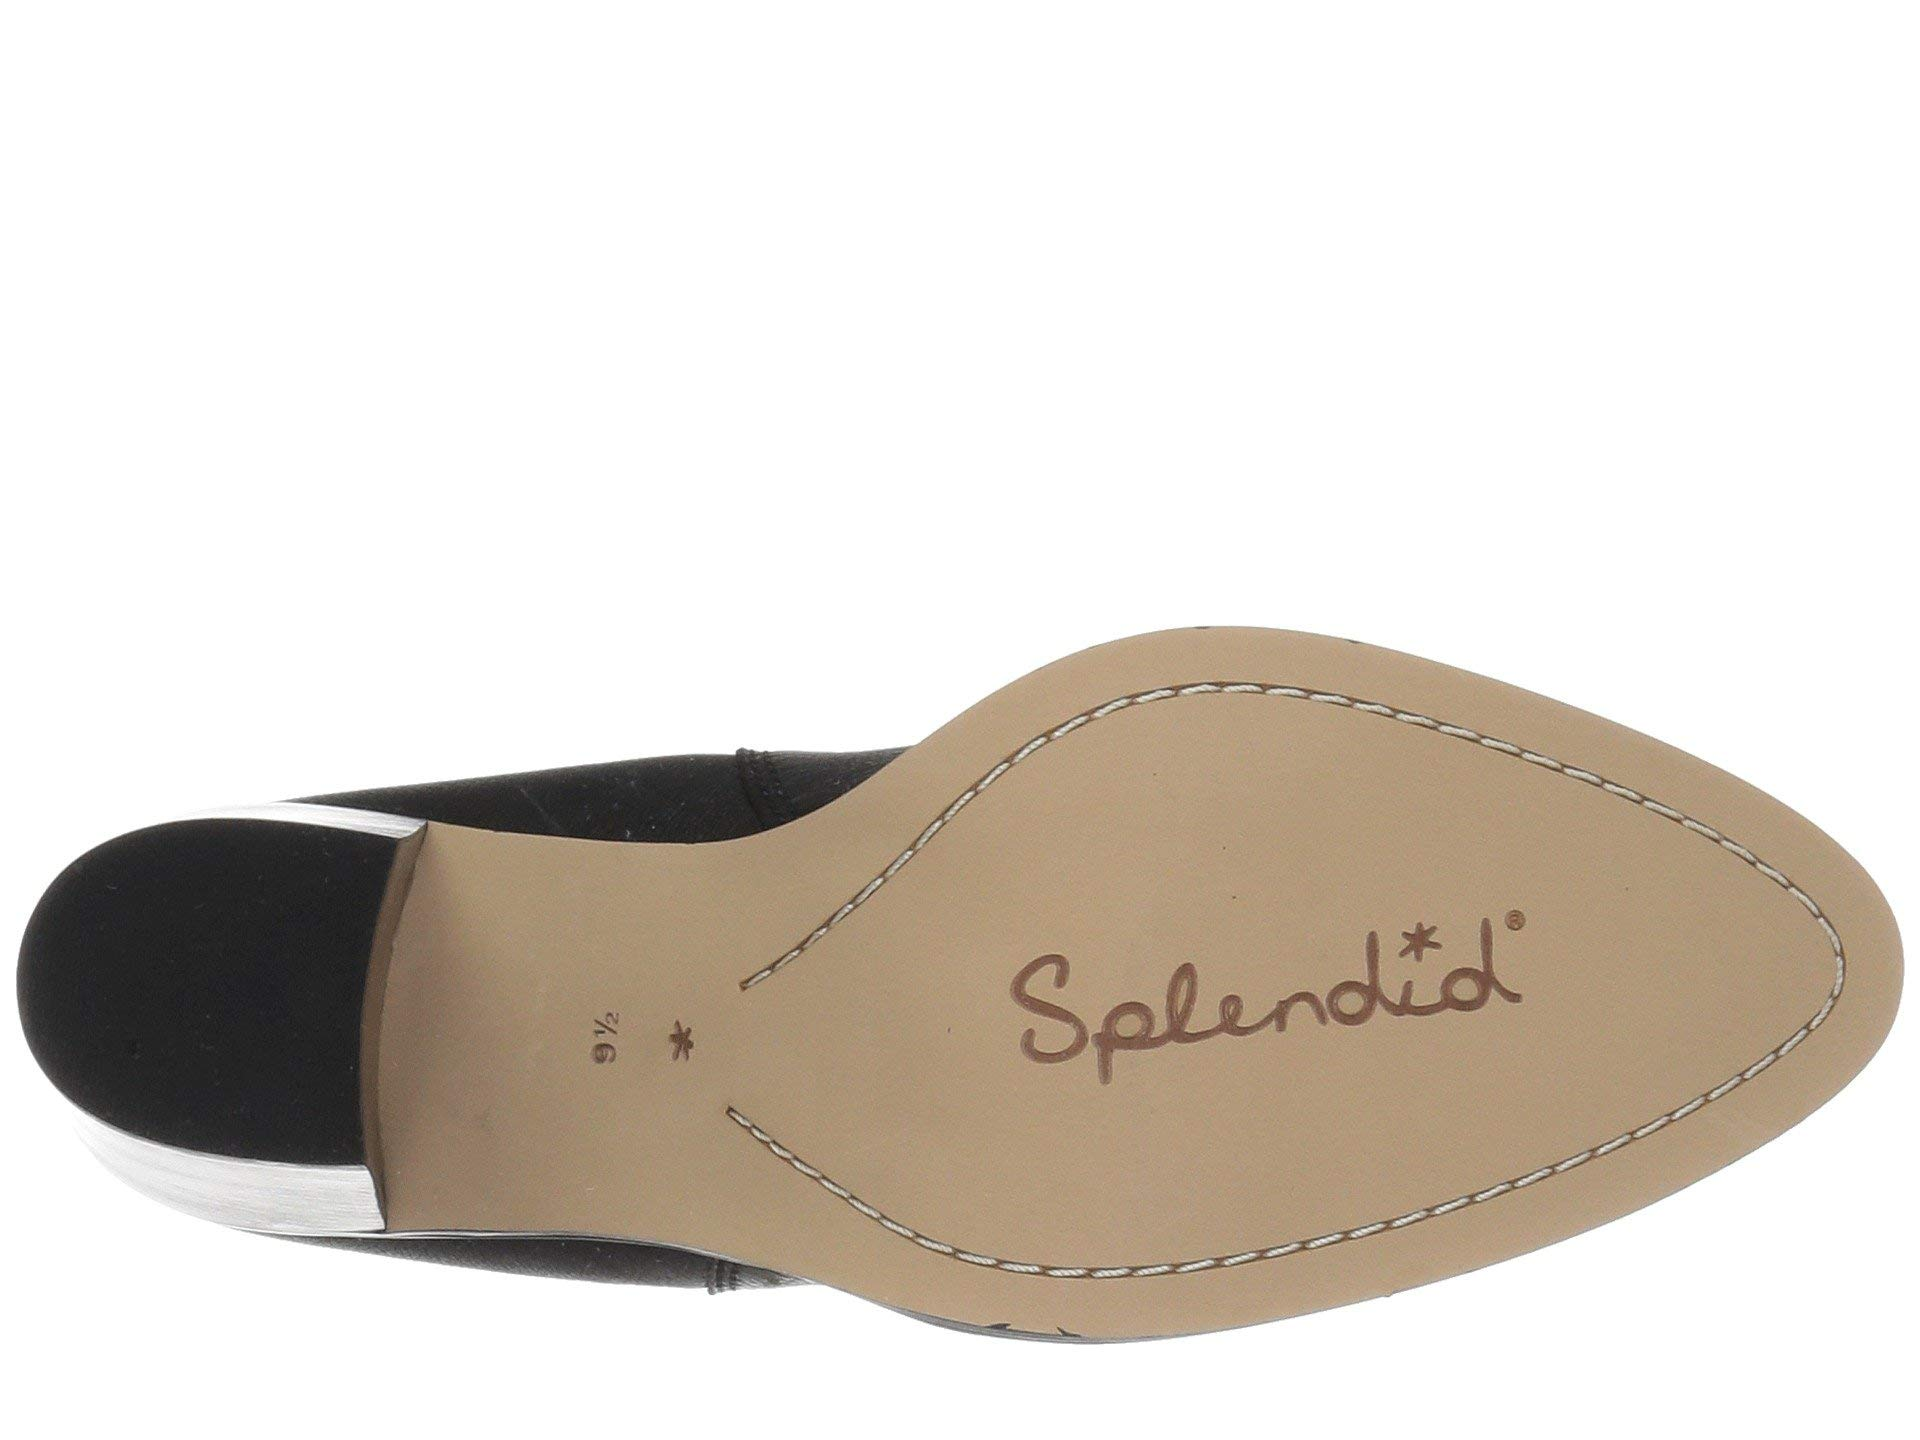circle: (940, 876, 1628, 1103)
line: (1098, 658, 1699, 838)
star: (940, 876, 1628, 1103), (543, 989, 721, 1082)
text: (940, 876, 1628, 1103), (543, 989, 721, 1082)
